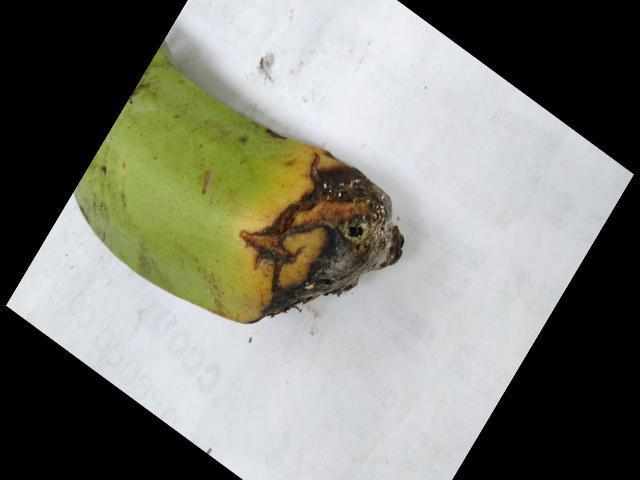rotten: (193, 130, 400, 330)
